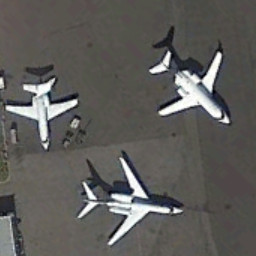Airplane: (67, 153, 195, 250), (141, 34, 238, 140), (3, 72, 83, 153)
